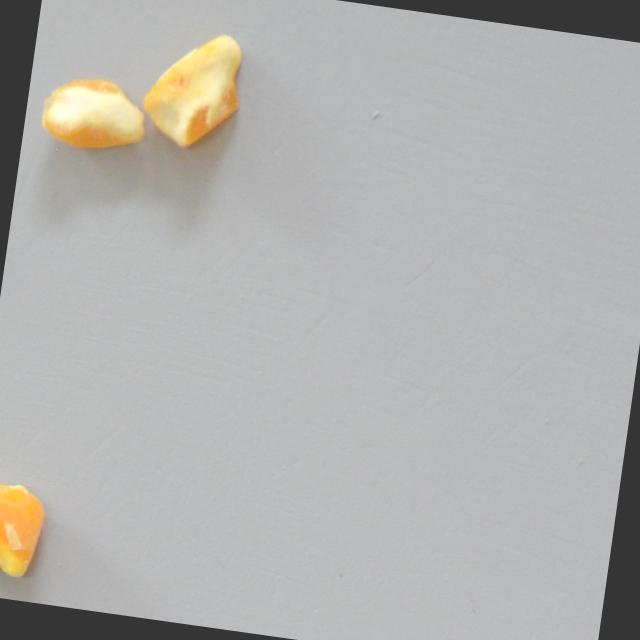dañado: (134, 22, 256, 161)
pelicula: (35, 70, 153, 159), (0, 475, 57, 585)
